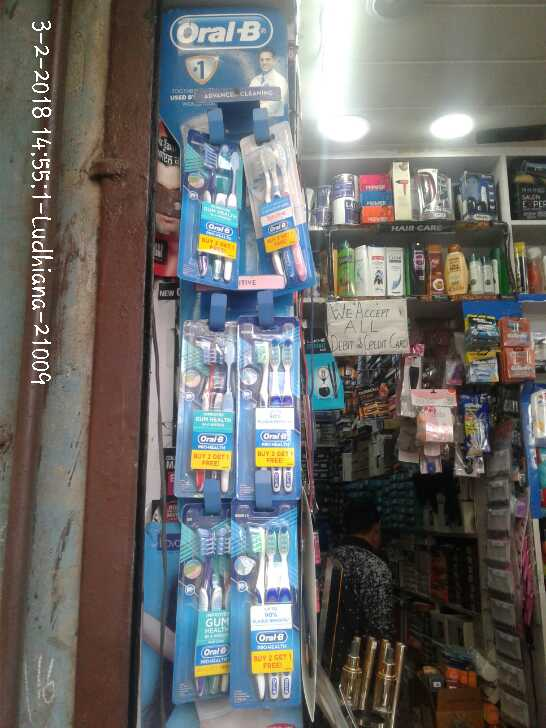oralb: (237, 524, 301, 705), (240, 330, 298, 507), (250, 137, 319, 283), (181, 129, 240, 287), (188, 521, 233, 701), (183, 336, 233, 493)
